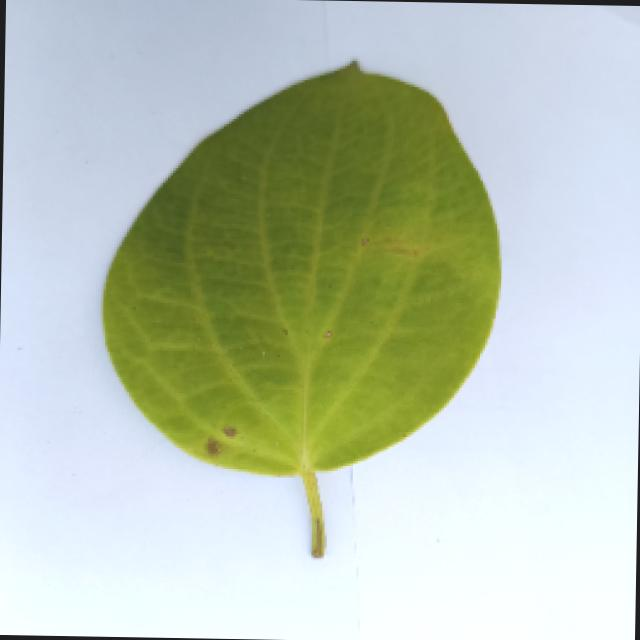slow-decline: (99, 53, 510, 546)
